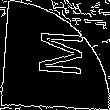M_W: (26, 30, 84, 80)
